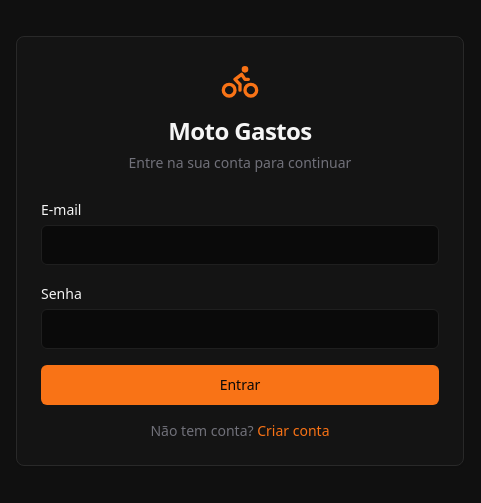
Test: LoginPage — validação de formulário › exibe erro de e-mail inválido ao submeter sem preencher
Click the button "Entrar" at (240, 385), box [41, 365, 439, 405]
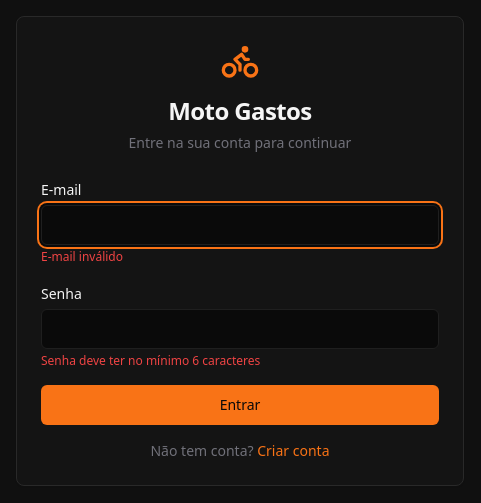
Now the text "E-mail inválido" is shown, box [41, 248, 123, 265]
